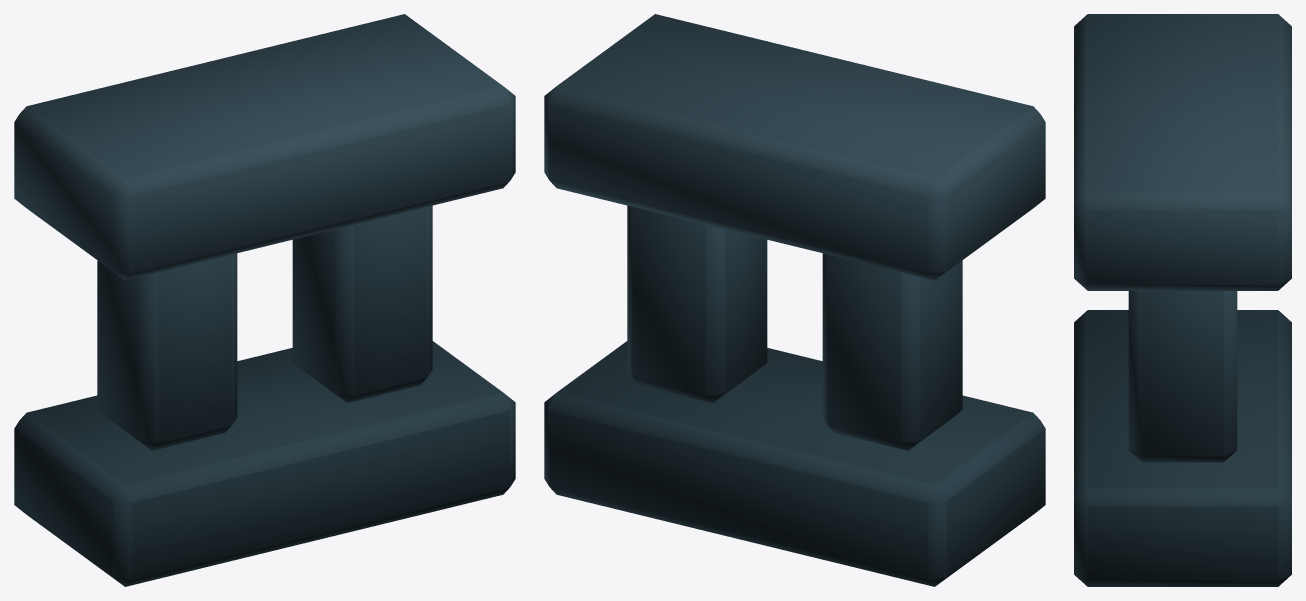
Rendered from fence_01_hue_4.fbx.
The picture shows the model from 3 angles, left to right: view 1: azimuth 30°, elevation 25°; view 2: azimuth 150°, elevation 25°; view 3: azimuth 270°, elevation 25°; orthographic projection. The views are drawn at different scales.
Visible parts, largest first — view 1: fence_01_hue_4; view 2: fence_01_hue_4; view 3: fence_01_hue_4.
Boxes of the visible parts, x1,y1,x2,y2 form: fence_01_hue_4: (14,14,515,586); fence_01_hue_4: (544,14,1045,586); fence_01_hue_4: (1074,14,1291,586).
Size of the model in its own units: 103 by 100 by 50.
